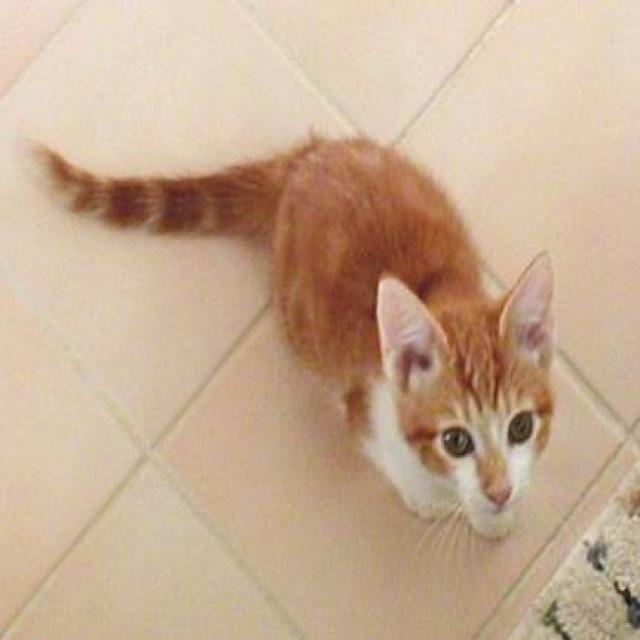cat: (33, 126, 557, 559)
